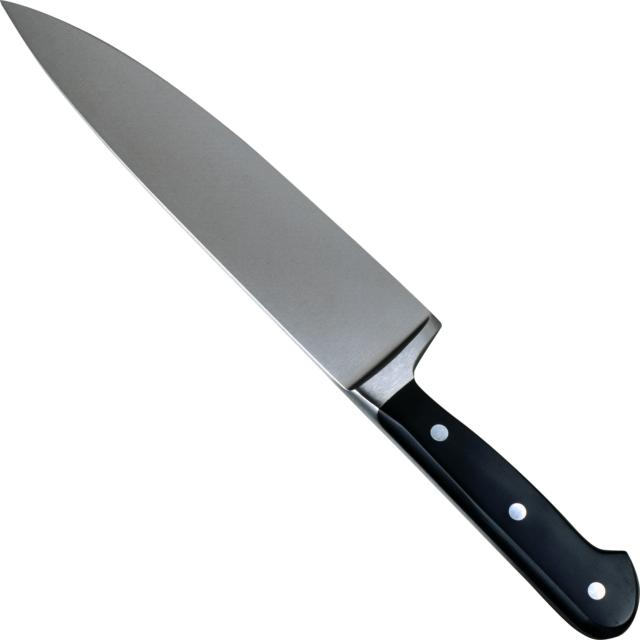knife: (0, 0, 640, 636)
